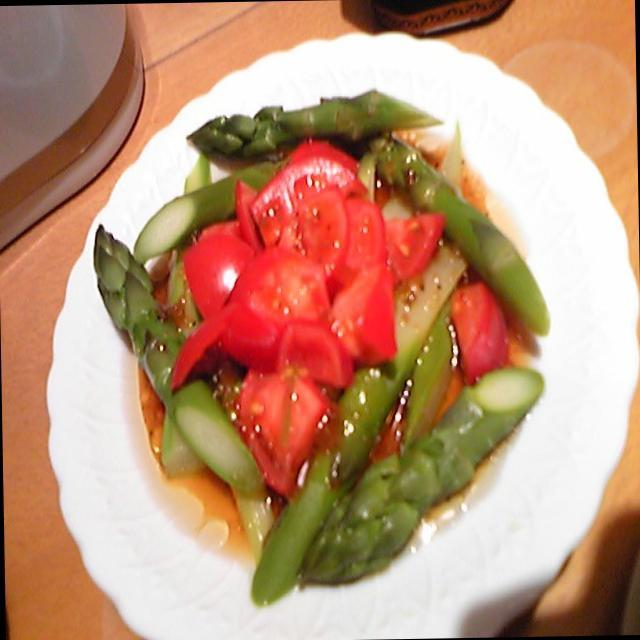Green Salad: (148, 103, 534, 522)
